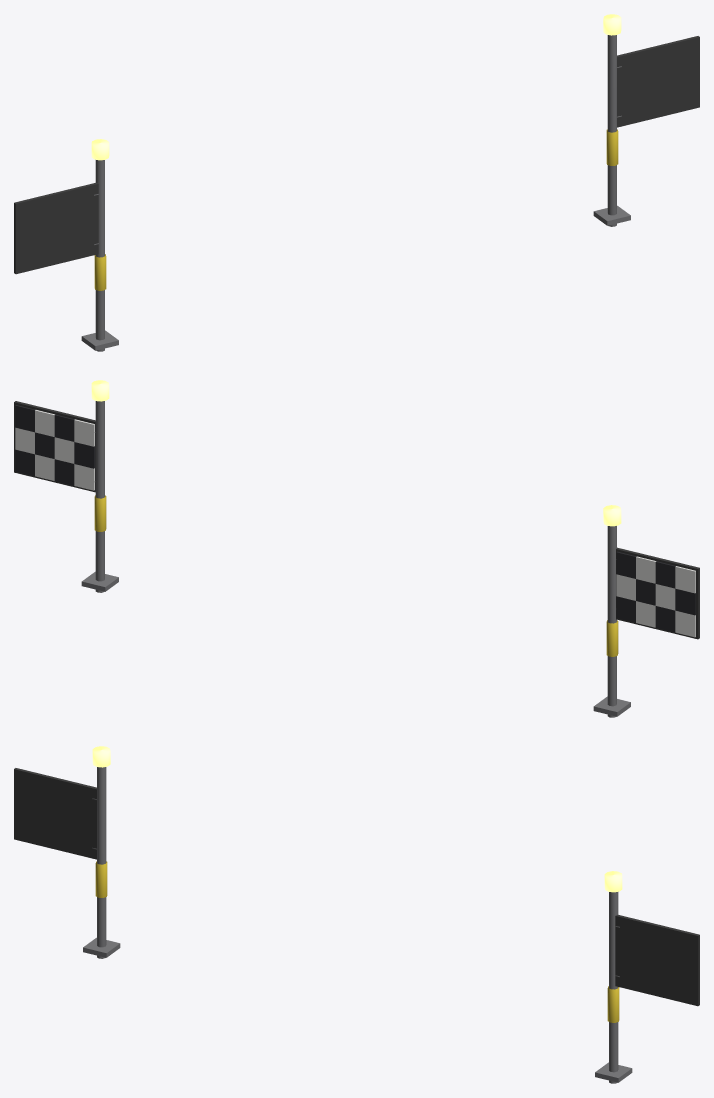
File: ramp_marks.glb
3 renders of one model, top to bottom at view 1: azimuth 30°, elevation 25°; view 2: azimuth 150°, elevation 25°; view 3: azimuth 330°, elevation 25°, orthographic.
Parts seen in each view (by area): view 1: RampMarks; view 2: RampMarks; view 3: RampMarks.
Boxes of the visible parts, x1,y1,x2,y2 form: RampMarks: (14,14,699,351); RampMarks: (14,380,699,717); RampMarks: (14,746,699,1083).
Size of the model in its own units: 26.06 by 7.53 by 0.9.
